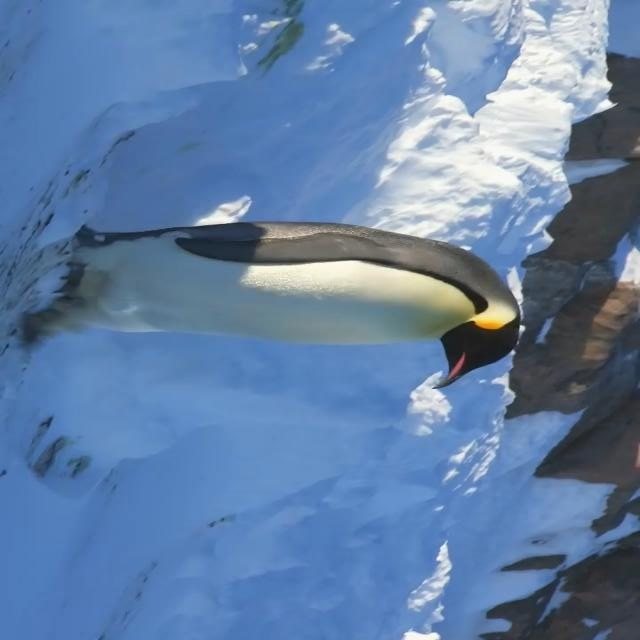penguin: (20, 219, 521, 388)
